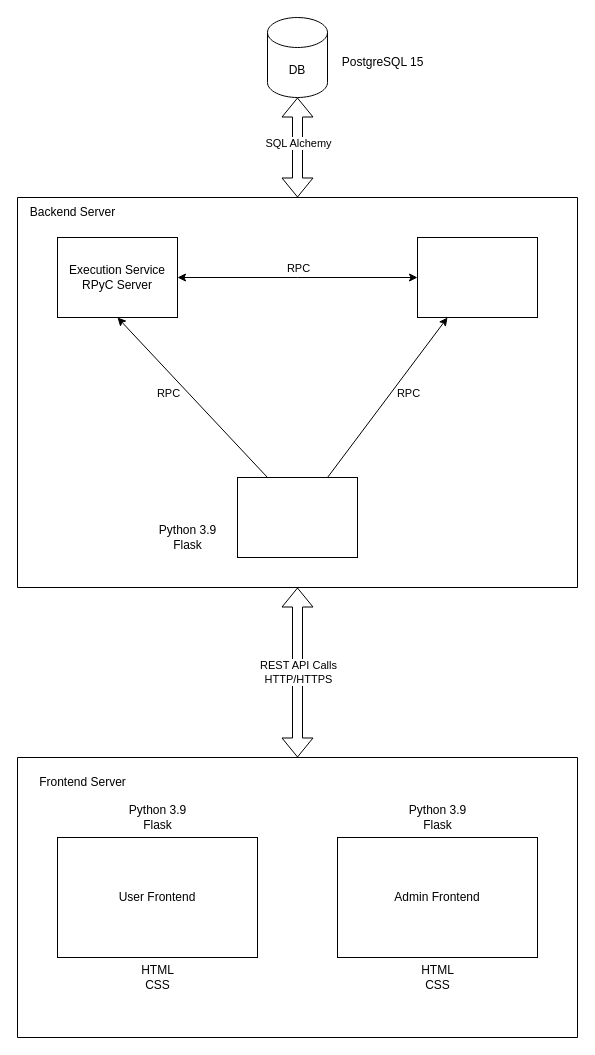
This 595x1055 diagram has some shape labels left out. The centre of each missing label's shape, as x and y in pixels:
"API Service" belongs at [297,517].
"Evaluation Service RPyc Server" belongs at [477,277].
